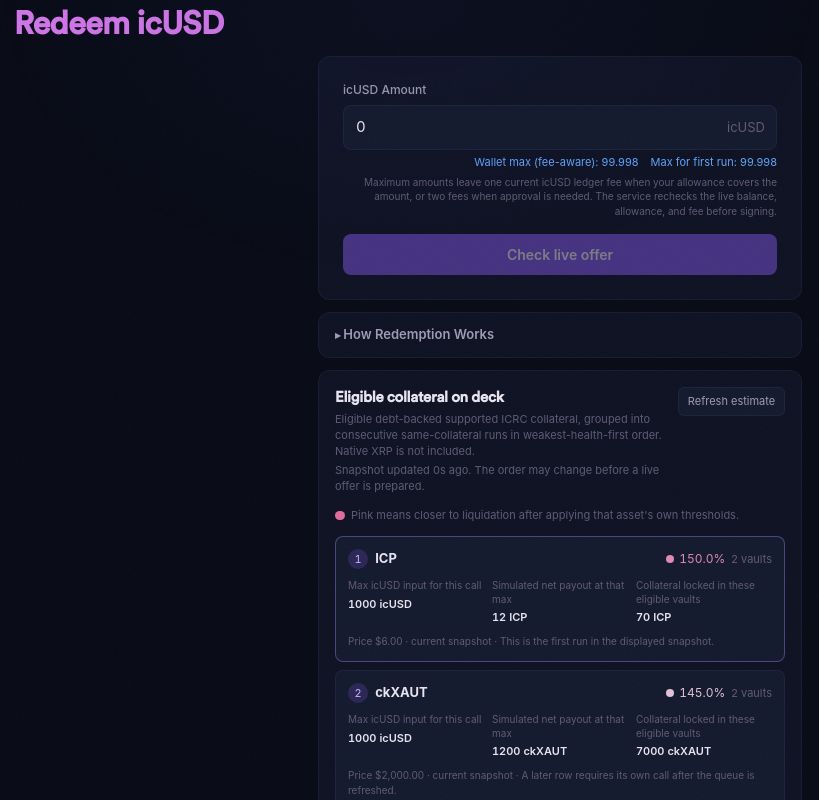
redemption route quote and queue safety › ignores a slower cached preview after the amount changes
Replace the text in the number field with id "icusd-amount" with "10": (560, 127) [343,105,777,150]
Wait 350 ms
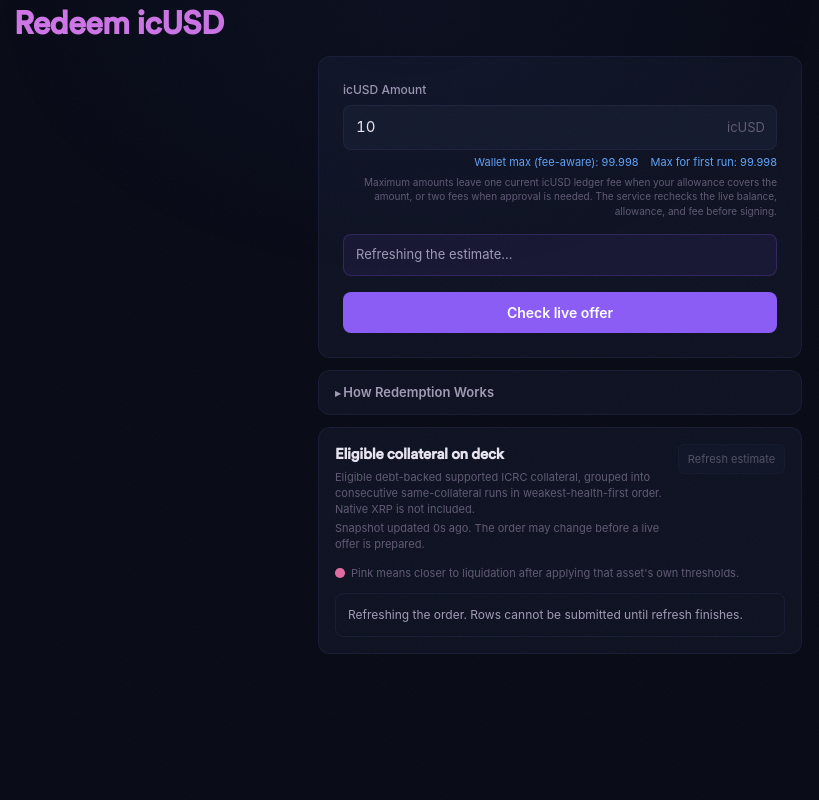
Replace the text in the number field with id "icusd-amount" with "20": (560, 127) [343,105,777,150]
Wait 350 ms
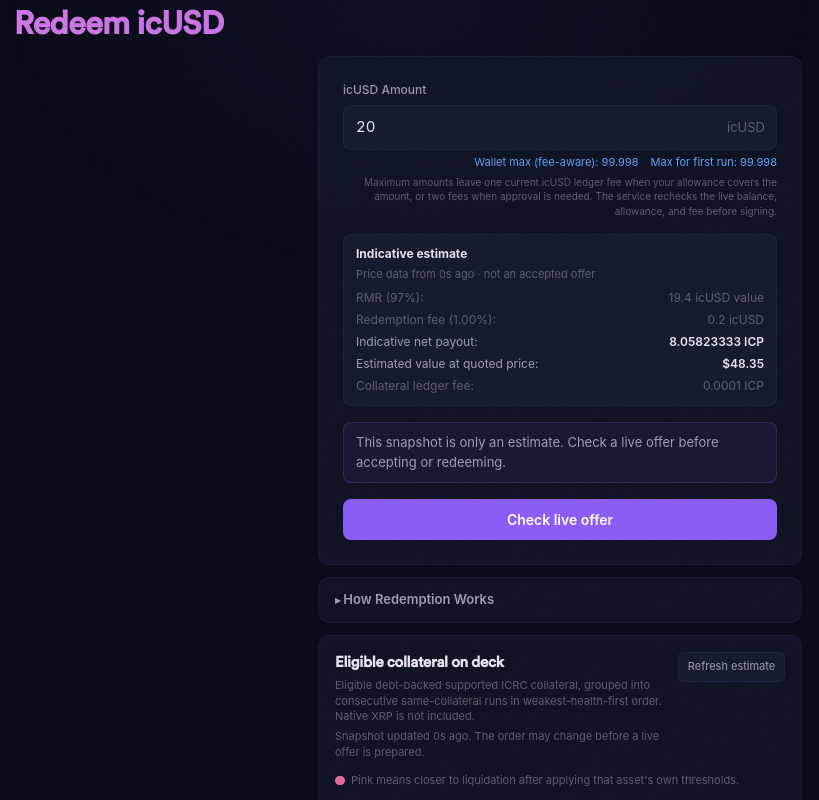
Expected: the text "19.4 icUSD value" is shown, [668,289,764,307]
